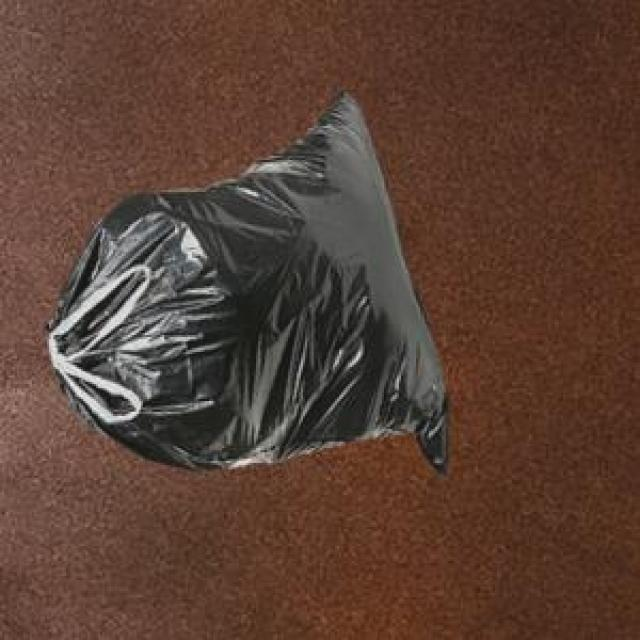Trashbag: (48, 86, 452, 501)
